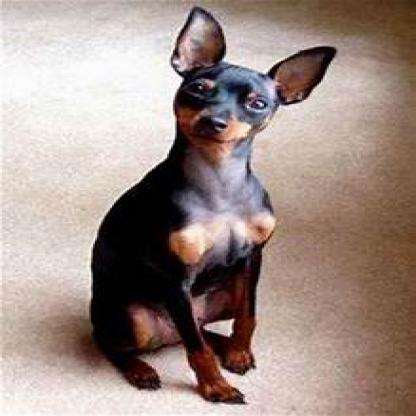dog: (82, 3, 328, 413)
